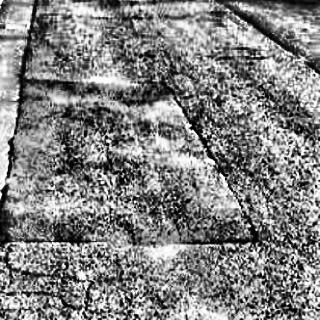alligator-crack: (1, 249, 143, 320), (213, 260, 319, 318), (170, 64, 237, 132), (0, 183, 32, 242)
crack: (167, 86, 261, 240), (217, 0, 318, 78), (8, 1, 38, 180), (16, 234, 263, 246), (22, 75, 168, 90)
